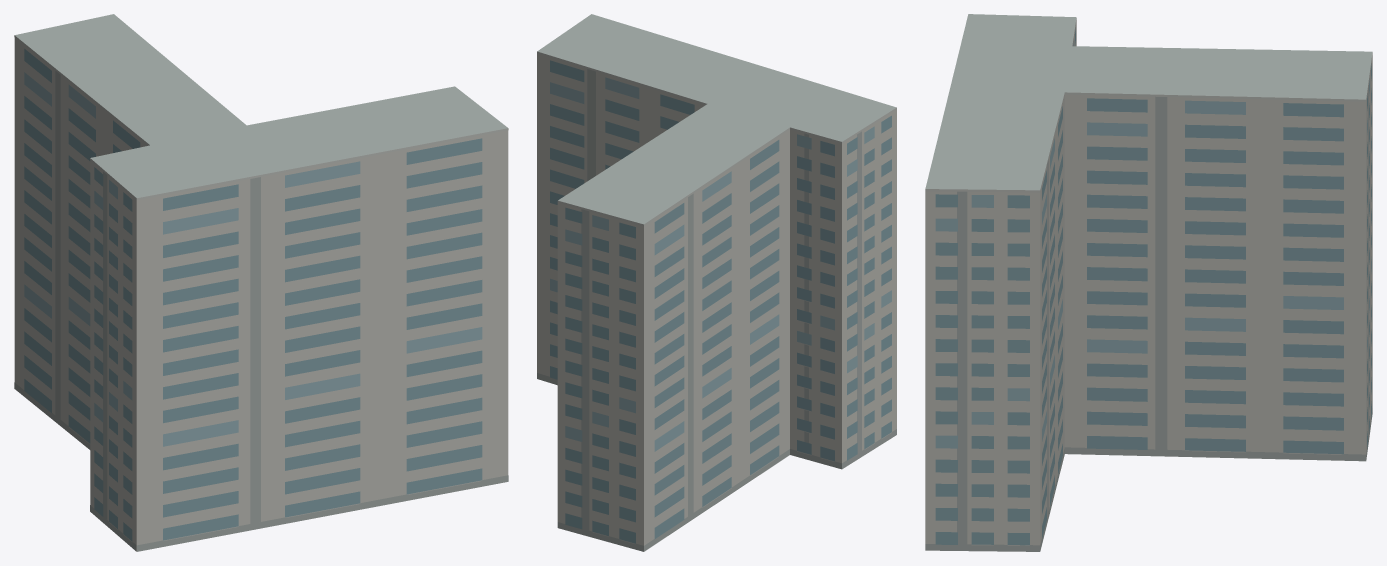
Rendered from residential-412fc0d1-ee95-49c7-8b68-340c89b21ebc.glb.
3 views of the same model, side by side, from view 1: azimuth 30°, elevation 25°; view 2: azimuth 150°, elevation 25°; view 3: azimuth 270°, elevation 25° (orthographic). The views are drawn at different scales.
Visible parts, largest first — view 1: residential-412fc0d1-ee95-49c7-8b68-340c89b21ebc.tmp; view 2: residential-412fc0d1-ee95-49c7-8b68-340c89b21ebc.tmp; view 3: residential-412fc0d1-ee95-49c7-8b68-340c89b21ebc.tmp.
Boxes of the visible parts, <box> form: residential-412fc0d1-ee95-49c7-8b68-340c89b21ebc.tmp: <box>14,14,508,551</box>; residential-412fc0d1-ee95-49c7-8b68-340c89b21ebc.tmp: <box>537,14,896,551</box>; residential-412fc0d1-ee95-49c7-8b68-340c89b21ebc.tmp: <box>925,14,1372,551</box>.
Size of the model in its own units: 41.83 by 40 by 44.85.
